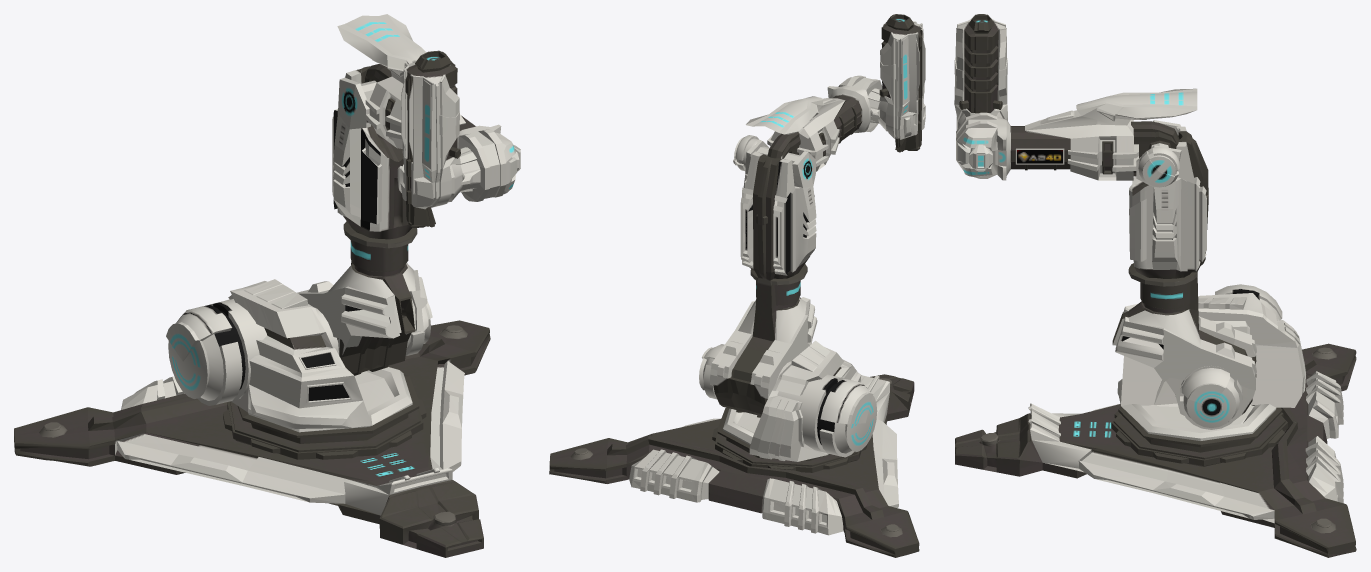
Rendered from Robot_Main.FBX.
3 views of the same model, side by side, from view 1: azimuth 30°, elevation 25°; view 2: azimuth 150°, elevation 25°; view 3: azimuth 270°, elevation 25° (orthographic). The views are drawn at different scales.
Visible parts, largest first — view 1: Helper_Main, Robot_Arm_Base, Robot_Arm_1, Robot_Arm_3, Robot_Arm_2; view 2: Helper_Main, Robot_Arm_1, Robot_Arm_Base, Robot_Arm_2, Robot_Arm_3; view 3: Helper_Main, Robot_Arm_1, Robot_Arm_Base, Robot_Arm_2, Robot_Arm_3.
Boxes of the visible parts, bbox=[...] form: Helper_Main: bbox=[14, 320, 490, 557]; Robot_Arm_Base: bbox=[166, 279, 432, 443]; Robot_Arm_1: bbox=[297, 66, 428, 375]; Robot_Arm_3: bbox=[397, 50, 480, 227]; Robot_Arm_2: bbox=[337, 14, 520, 201]; Helper_Main: bbox=[549, 374, 919, 557]; Robot_Arm_1: bbox=[710, 140, 817, 417]; Robot_Arm_Base: bbox=[699, 340, 877, 461]; Robot_Arm_2: bbox=[733, 75, 882, 171]; Robot_Arm_3: bbox=[868, 14, 925, 152]; Helper_Main: bbox=[955, 343, 1356, 557]; Robot_Arm_1: bbox=[1112, 120, 1256, 419]; Robot_Arm_Base: bbox=[1117, 284, 1305, 452]; Robot_Arm_2: bbox=[956, 88, 1197, 187]; Robot_Arm_3: bbox=[954, 14, 1007, 129].
Size of the model in its own units: 1755 by 1732 by 1464.
